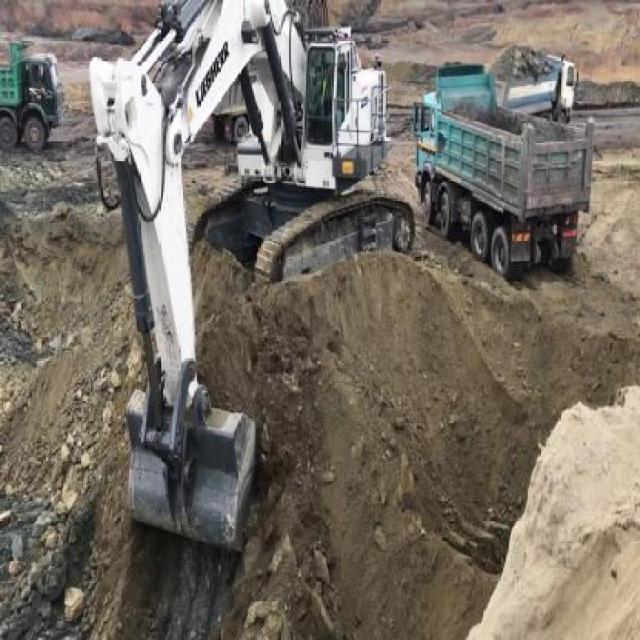dump_truck: (418, 63, 596, 271), (0, 38, 69, 154), (495, 47, 579, 116)
excavator: (85, 0, 416, 552)
